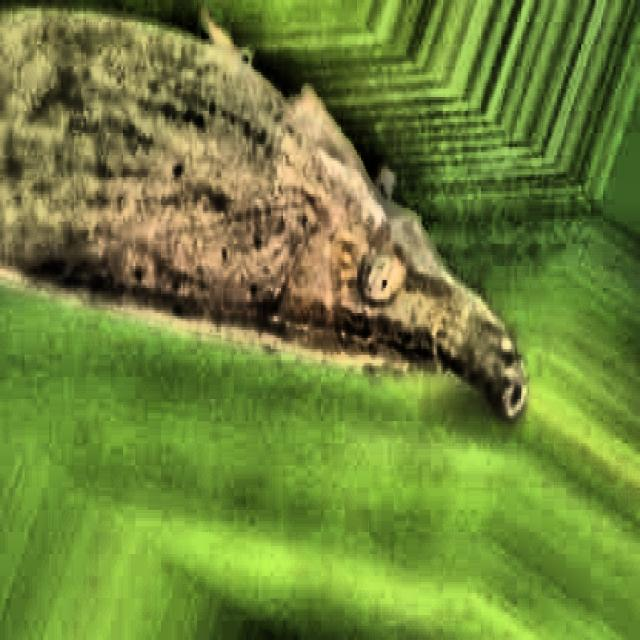Pyrilla-perpusilla: (0, 0, 538, 468)
